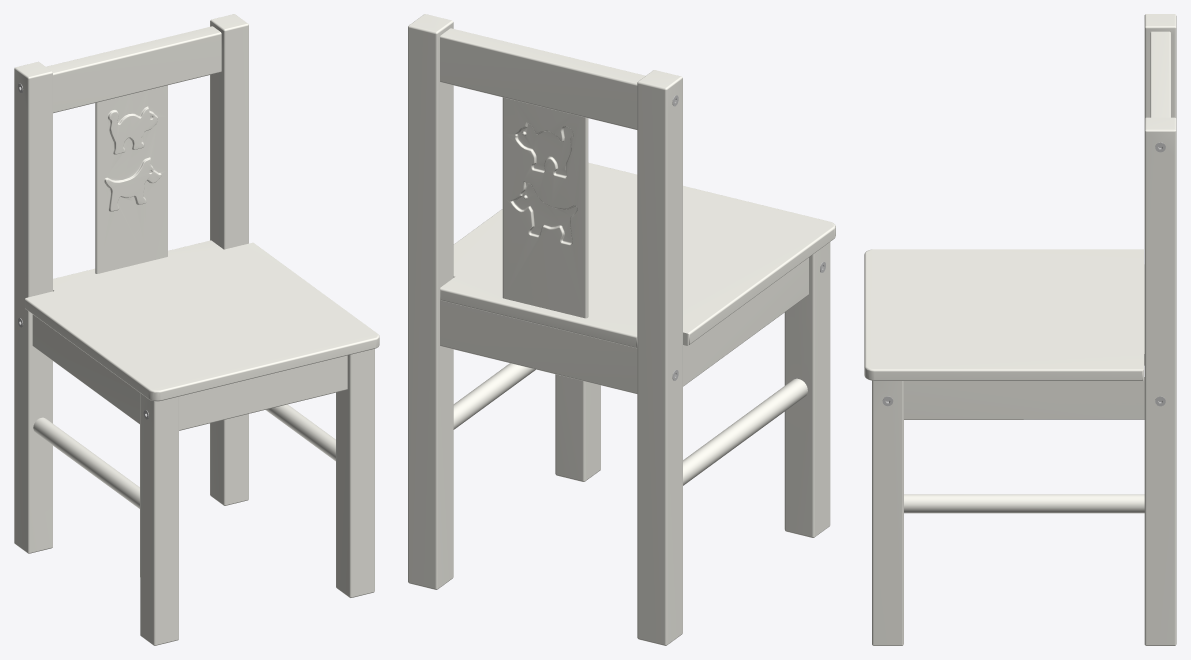
File: 11 - KRITTER Children_s chair - white.glb
3 renders of one model, left to right at view 1: azimuth 30°, elevation 25°; view 2: azimuth 150°, elevation 25°; view 3: azimuth 270°, elevation 25°, orthographic. The views are drawn at different scales.
Visible parts, largest first — view 1: Mesh_0.2911; view 2: Mesh_0.2911; view 3: Mesh_0.2911.
Boxes of the visible parts, x1,y1,x2,y2 form: Mesh_0.2911: (14,14,379,645); Mesh_0.2911: (408,14,835,645); Mesh_0.2911: (864,14,1176,645).
Bounding box in the file's own units: 0.27 × 0.535 × 0.293.
Materials: 1 (1 with a texture image).
